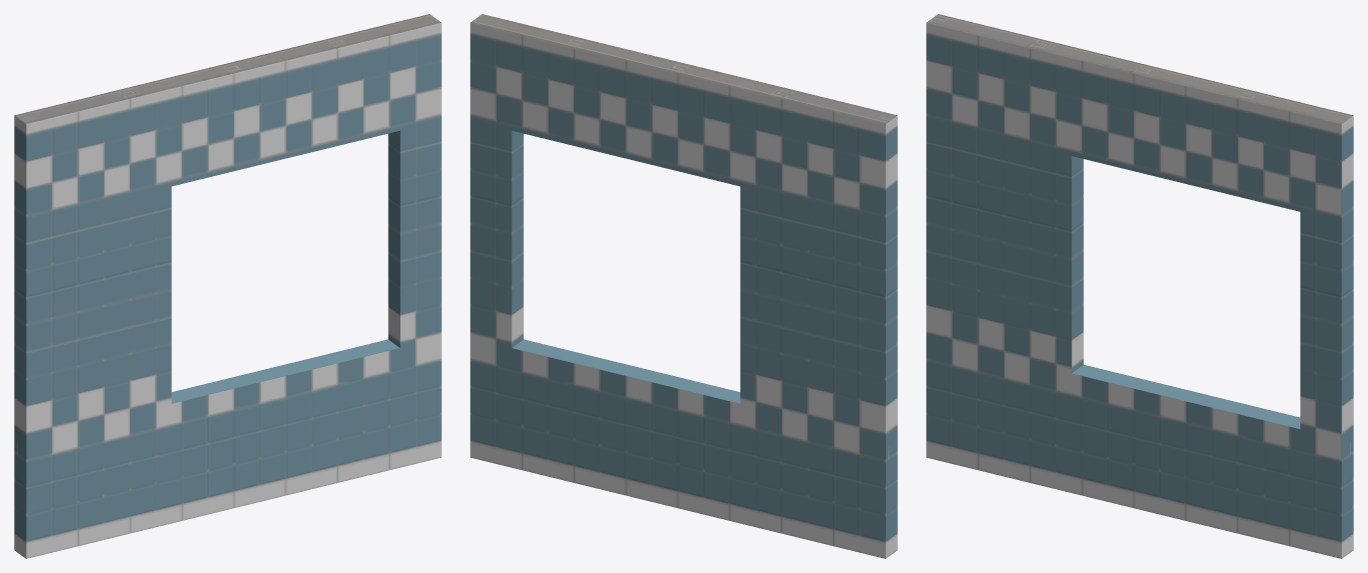
Rendered from wall8_5.fbx.
The picture shows the model from 3 angles, left to right: view 1: azimuth 30°, elevation 25°; view 2: azimuth 150°, elevation 25°; view 3: azimuth 330°, elevation 25°; orthographic projection.
Parts seen in each view (by area): view 1: wall8_bathroom_e; view 2: wall8_bathroom_e; view 3: wall8_bathroom_e.
Part boxes in pixels (x1,y1,x2,y2): wall8_bathroom_e: [14, 14, 441, 558]; wall8_bathroom_e: [470, 14, 897, 558]; wall8_bathroom_e: [926, 14, 1353, 558].
Bounding box in the file's own units: 400 × 400 × 20.
